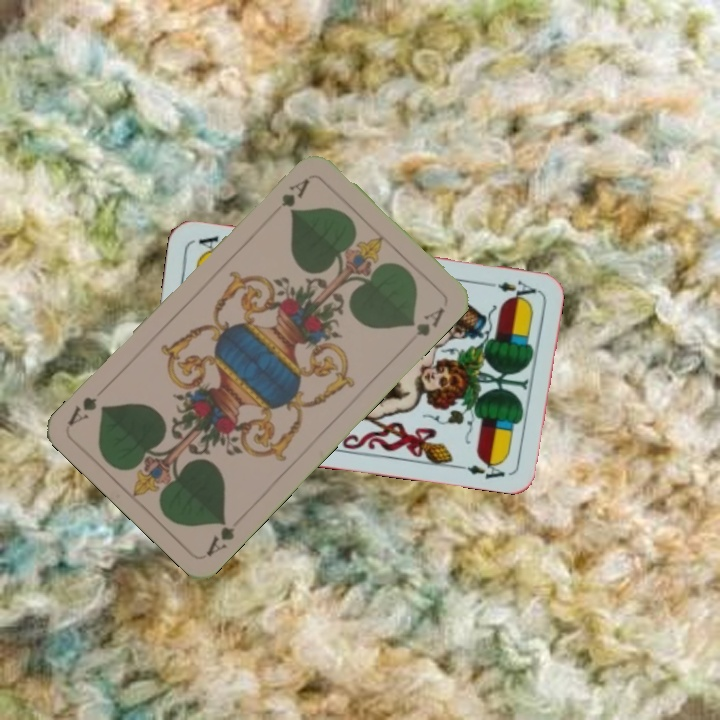EA: (480, 276, 539, 299)
GA: (267, 174, 313, 217), (202, 514, 237, 559)
